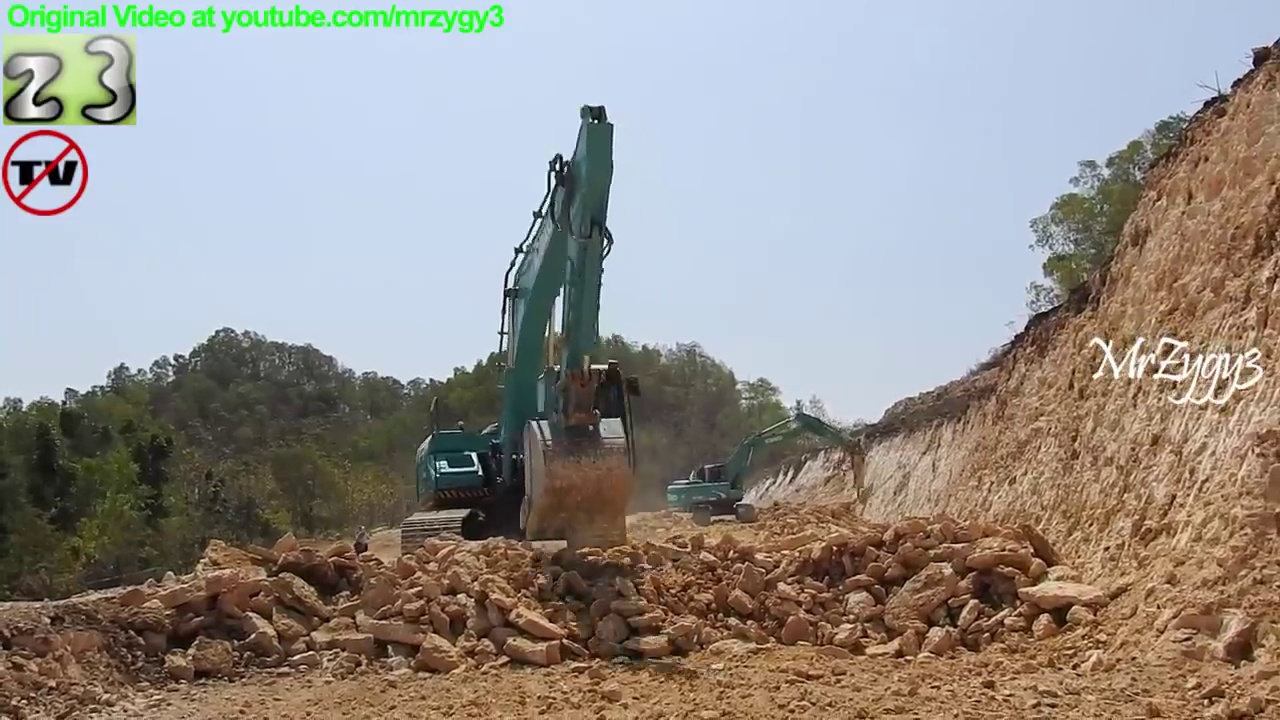excavator: (393, 103, 655, 575)
excavator breaker: (661, 409, 874, 533)
